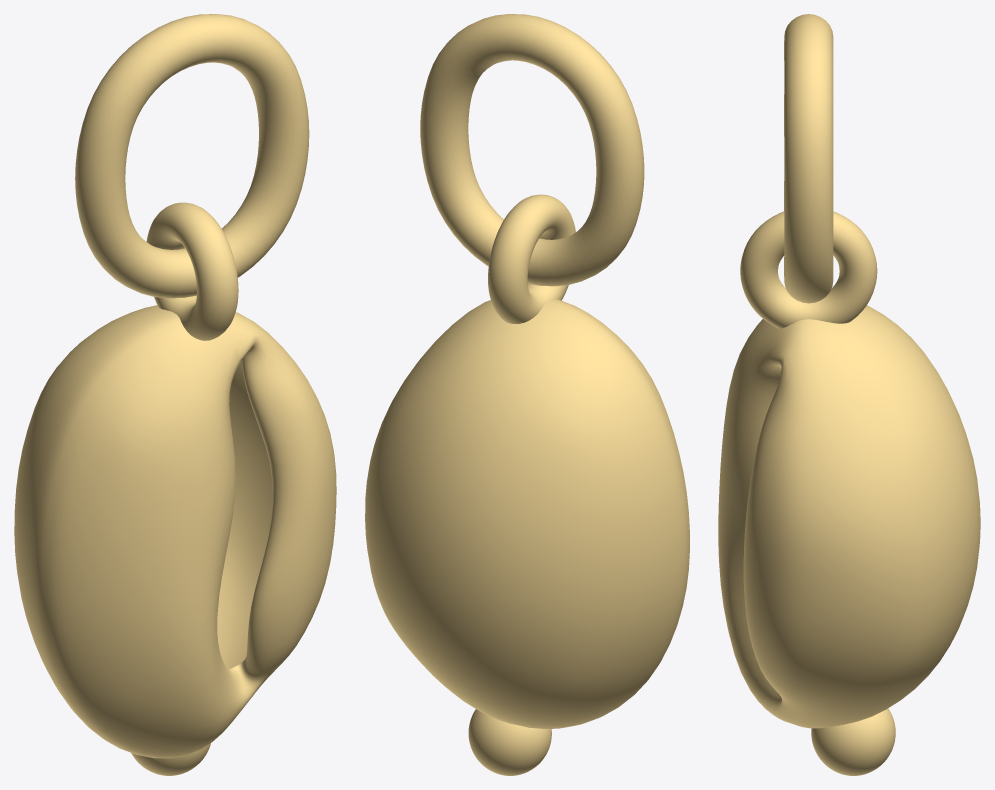
Rendered from cowrie_shell.glb.
3 renders of one model, left to right at view 1: azimuth 30°, elevation 25°; view 2: azimuth 150°, elevation 25°; view 3: azimuth 270°, elevation 25°, orthographic. The views are drawn at different scales.
Parts seen in each view (by area): view 1: cowrie_shell_low; view 2: cowrie_shell_low; view 3: cowrie_shell_low.
Boxes of the visible parts, box(x1,y1,x2,y2) form: cowrie_shell_low: box(14, 14, 336, 775); cowrie_shell_low: box(365, 14, 689, 775); cowrie_shell_low: box(718, 14, 980, 775).
Bounding box in the file's own units: 0.00426 × 0.0105 × 0.00335.
1 material, 1 textured.
